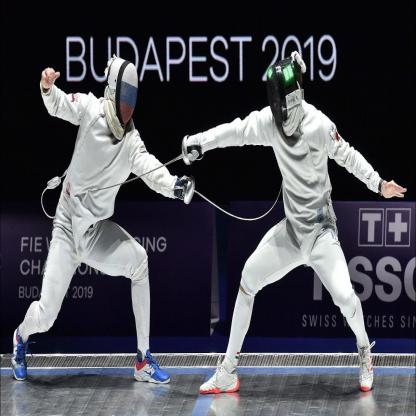fencer: (175, 52, 411, 399), (9, 49, 200, 397)
